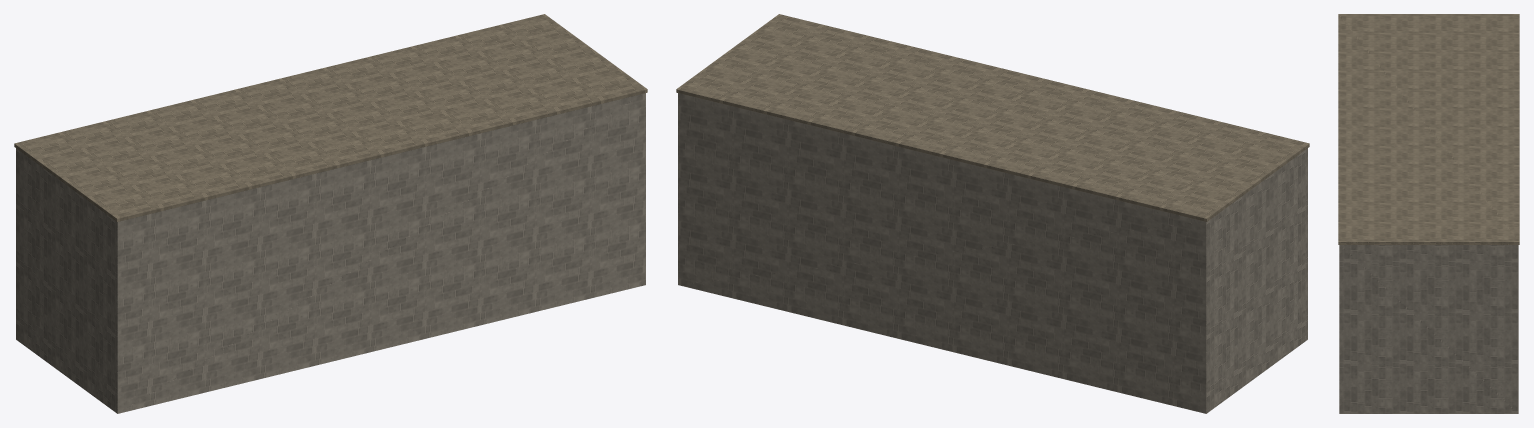
Rendered from SM_Art_Masonry_2400x800x850.gltf.
3 views of the same model, side by side, from view 1: azimuth 30°, elevation 25°; view 2: azimuth 150°, elevation 25°; view 3: azimuth 270°, elevation 25° (orthographic). The views are drawn at different scales.
Parts seen in each view (by area): view 1: SM_Art_Masonry_2400x800x850; view 2: SM_Art_Masonry_2400x800x850; view 3: SM_Art_Masonry_2400x800x850.
Part boxes in pixels (<box>): SM_Art_Masonry_2400x800x850: <box>14,14,647,413</box>; SM_Art_Masonry_2400x800x850: <box>676,14,1309,413</box>; SM_Art_Masonry_2400x800x850: <box>1338,14,1519,413</box>.
Bounding box in the file's own units: 24.1 × 8.5 × 8.1.
Materials: 2 (2 with a texture image).
